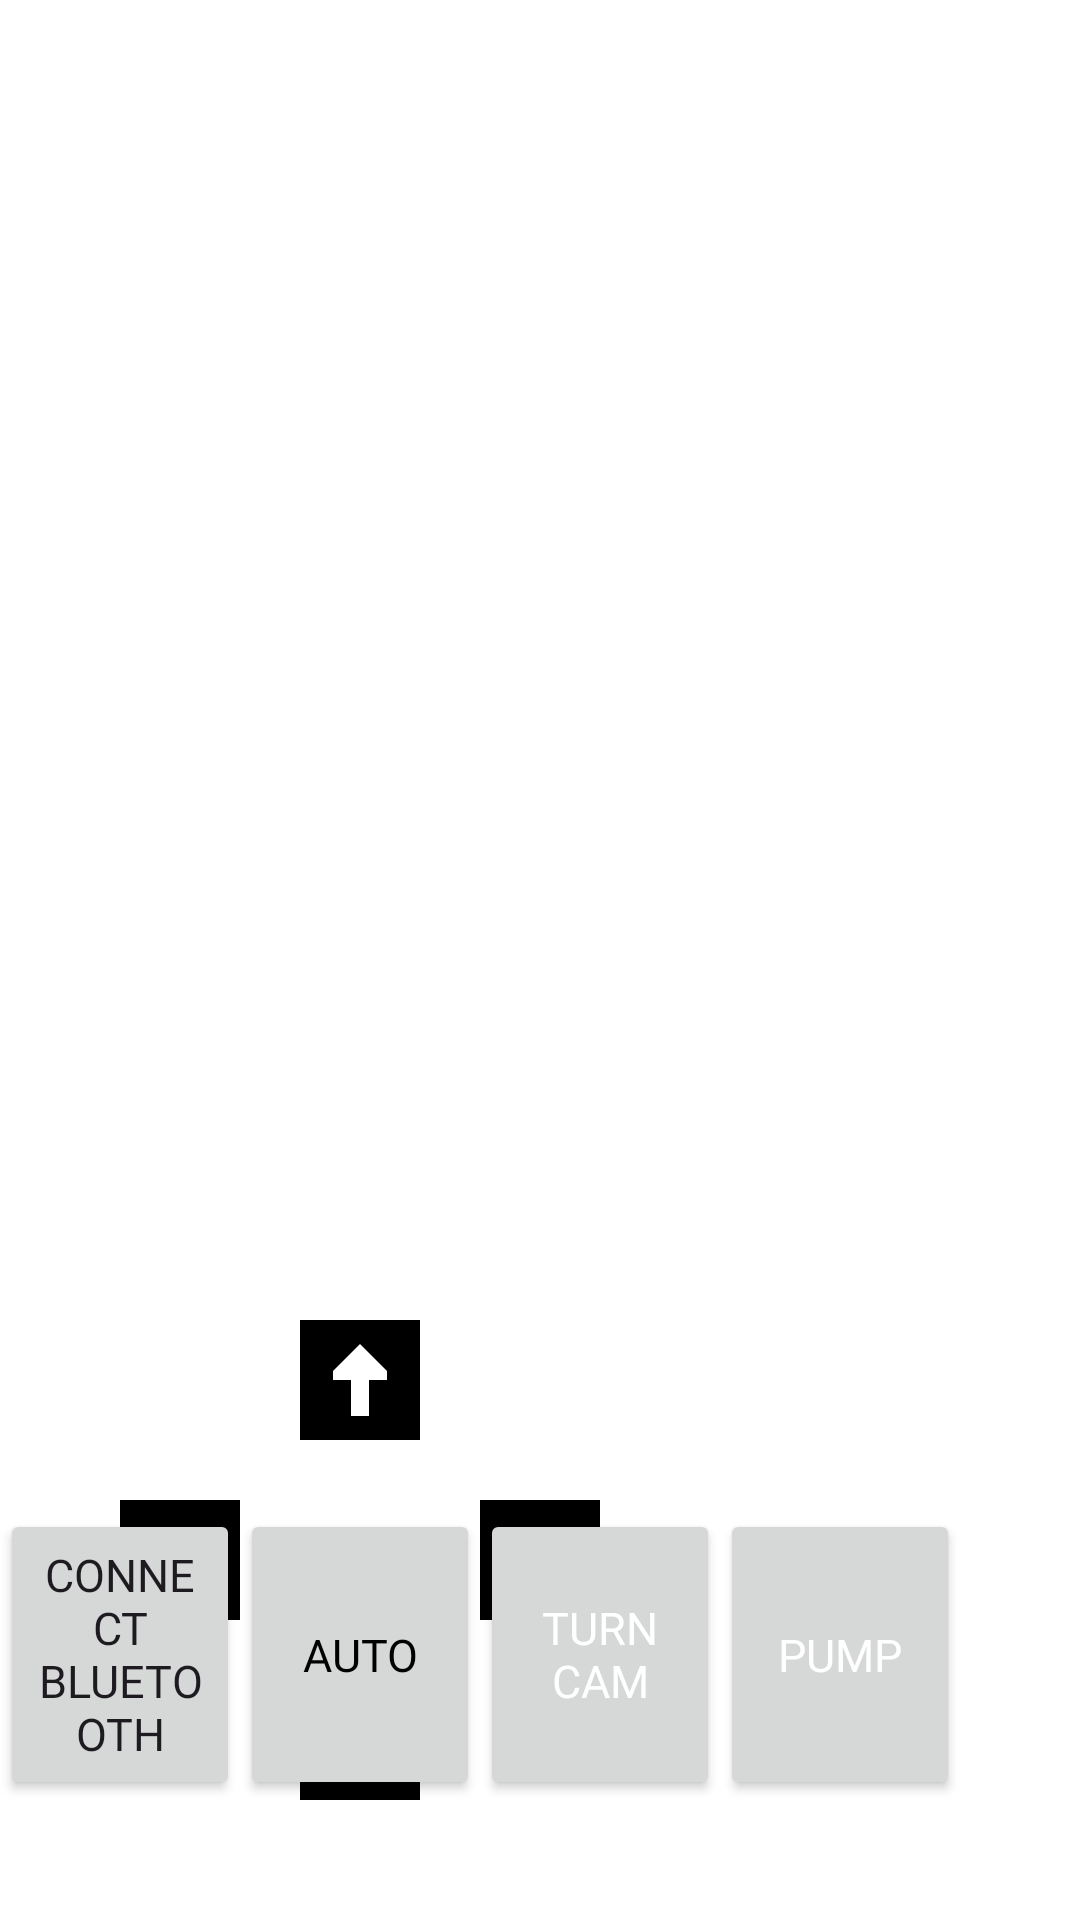

Screen size 1080x1920. Icon name, then its box in pixels as (x1, y1, x2, y2):
arrow up: (300, 1320, 420, 1440)
